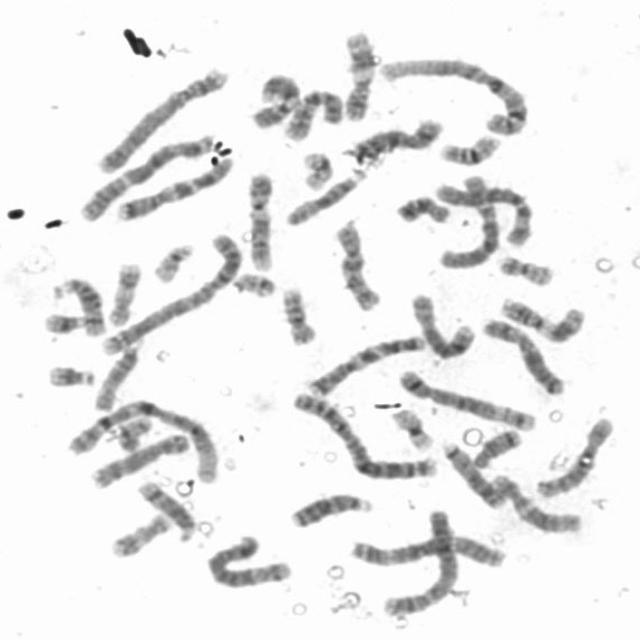A1: (66, 394, 222, 486), (373, 54, 533, 138)
A2: (97, 230, 244, 358), (288, 389, 439, 482)
A3: (74, 130, 215, 223), (343, 531, 510, 569)
B4: (92, 64, 228, 176), (377, 506, 458, 618)
B5: (394, 366, 538, 433), (200, 532, 298, 592)
C10: (330, 218, 382, 312), (280, 85, 344, 142)
C11: (496, 293, 587, 345), (339, 30, 376, 122)
C12: (534, 416, 618, 499), (486, 472, 582, 534)
C6: (432, 179, 535, 248), (432, 174, 502, 271)
C7: (112, 154, 234, 222), (302, 332, 427, 398)
C8: (87, 429, 191, 491), (406, 290, 476, 360)
C9: (243, 168, 277, 274), (249, 74, 302, 132)
D13: (438, 439, 506, 510), (286, 488, 374, 529)
D14: (134, 478, 195, 543), (49, 274, 106, 338)
D15: (282, 164, 369, 228), (89, 340, 143, 414)
E16: (276, 284, 318, 347), (435, 132, 503, 168)
E17: (106, 510, 173, 560), (105, 259, 143, 328)
E18: (468, 425, 524, 470), (390, 192, 452, 225)
F19: (388, 405, 436, 453), (298, 149, 334, 192)
F20: (494, 252, 556, 288), (112, 413, 154, 452)
G21: (42, 360, 97, 390), (40, 308, 88, 336)
G22: (148, 241, 198, 284), (231, 270, 276, 298)
X: (477, 316, 568, 396), (349, 115, 445, 163)
